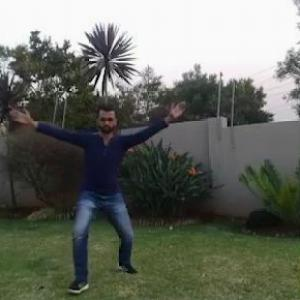takeoff: (8, 91, 183, 266)
